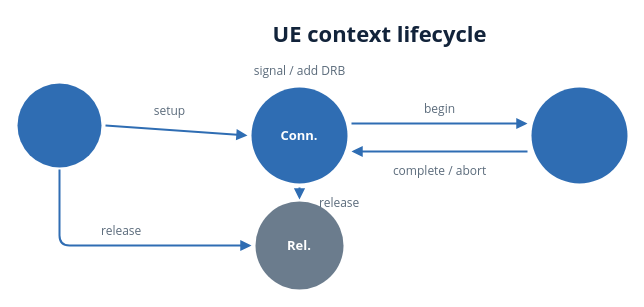
This 644x307 diagram has some shape labels left out. The box of each missing label's shape, as (x1, y1, x2, y2) in pixels:
Idle: (17, 83, 101, 167)
Reconf.: (531, 87, 627, 183)
